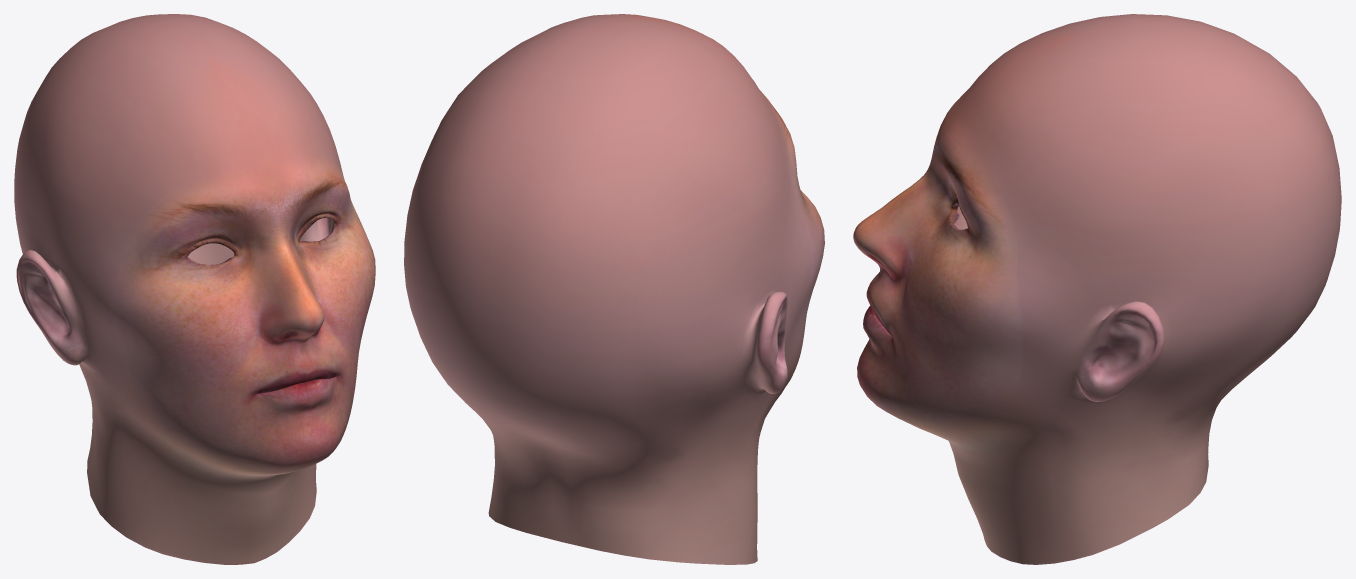
The picture shows the model from 3 angles, left to right: view 1: azimuth 30°, elevation 25°; view 2: azimuth 150°, elevation 25°; view 3: azimuth 270°, elevation 25°; orthographic projection. The views are drawn at different scales.
Parts seen in each view (by area): view 1: FaceGen; view 2: FaceGen; view 3: FaceGen.
Part boxes in pixels (x1,y1,x2,y2): FaceGen: [14, 14, 375, 564]; FaceGen: [404, 14, 824, 564]; FaceGen: [853, 14, 1341, 564].
Bounding box in the file's own units: 193 × 283 × 244.
Materials: 1 (1 with a texture image).
